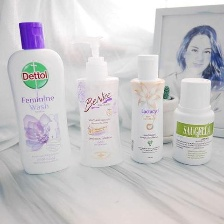cleaning_solution: (3, 19, 76, 178), (67, 31, 126, 170), (126, 53, 166, 165), (170, 75, 216, 166)
